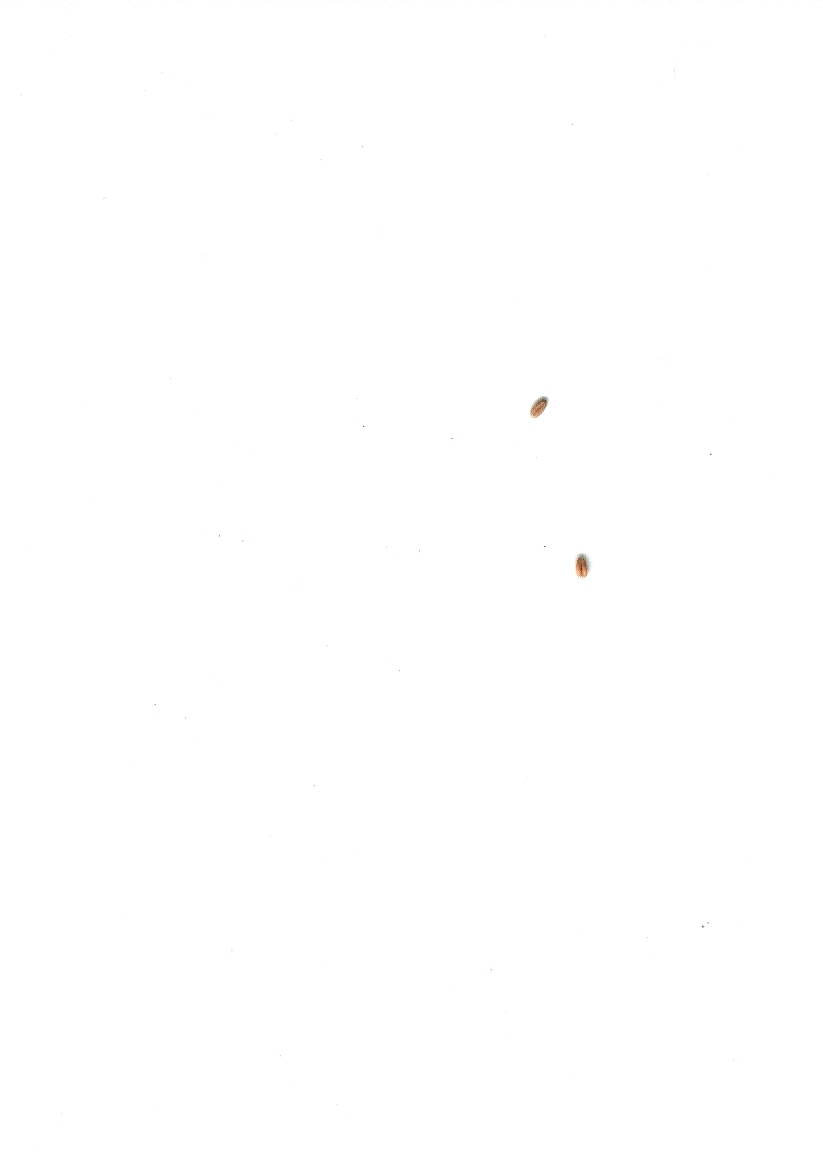grains: (514, 388, 559, 433), (568, 541, 594, 589)
